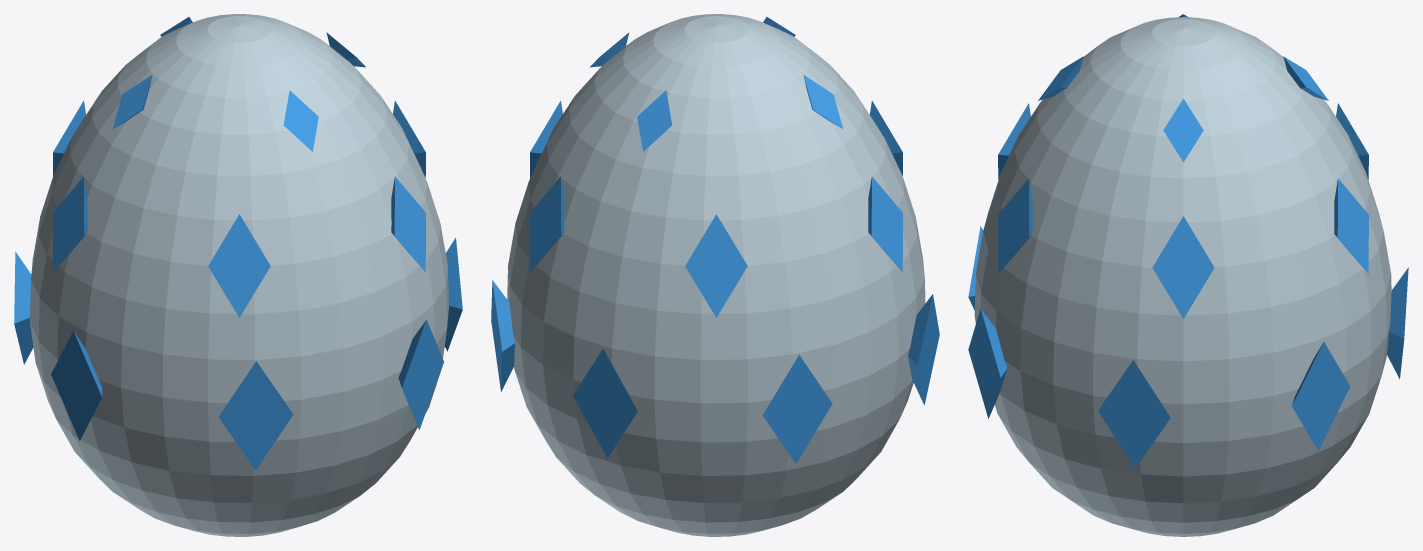
File: IceEgg.fbx
3 views of the same model, side by side, from view 1: azimuth 30°, elevation 25°; view 2: azimuth 150°, elevation 25°; view 3: azimuth 270°, elevation 25° (orthographic).
Parts seen in each view (by area): view 1: Egg_DDF3FF, Egg_3E9BE6; view 2: Egg_DDF3FF, Egg_3E9BE6; view 3: Egg_DDF3FF, Egg_3E9BE6.
Part boxes in pixels (x1,y1,x2,y2): Egg_DDF3FF: (30,14,448,536); Egg_3E9BE6: (14,17,462,470); Egg_DDF3FF: (507,14,925,536); Egg_3E9BE6: (491,16,939,463); Egg_DDF3FF: (974,17,1391,536); Egg_3E9BE6: (968,14,1408,468).
Bounding box in the file's own units: 2.15 × 2.6 × 2.12.
